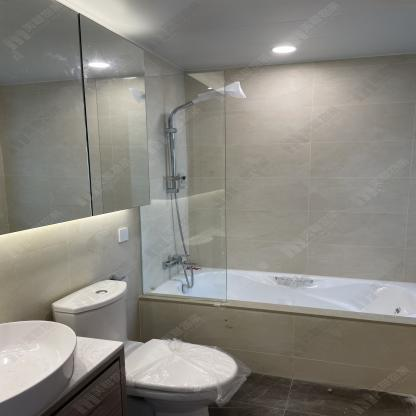Bathtub: (139, 265, 416, 398)
Toilet: (51, 279, 238, 416)
Toilet Sink: (0, 321, 79, 416)
